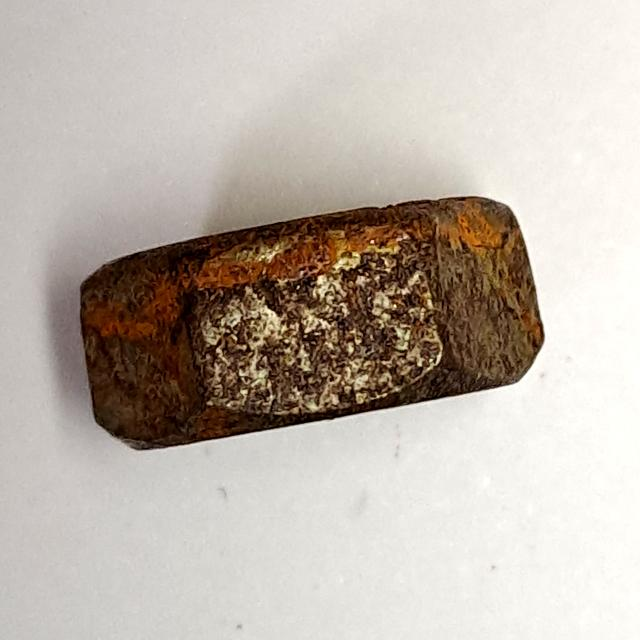Side_Rust: (68, 186, 564, 464)
